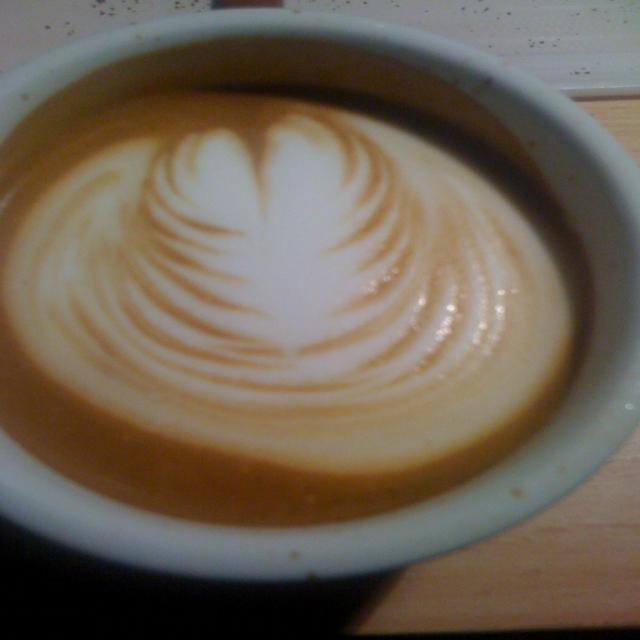latte: (1, 12, 640, 577)
